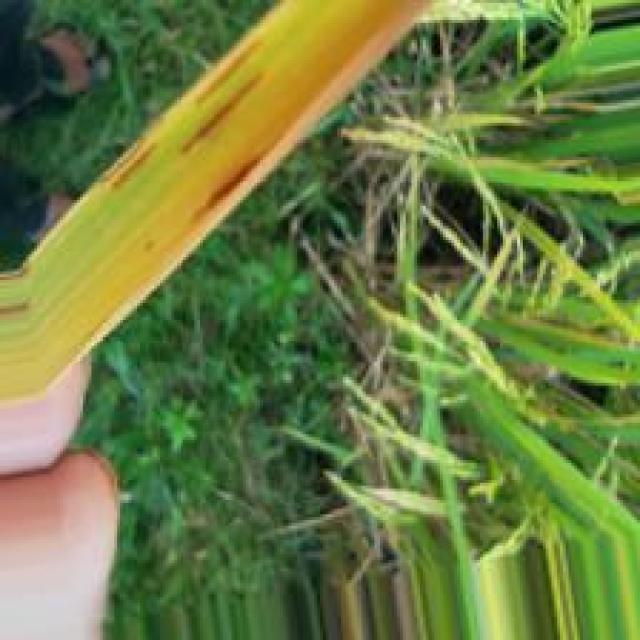Narrow_Brown_Leaf_Spot: (0, 0, 445, 404)
